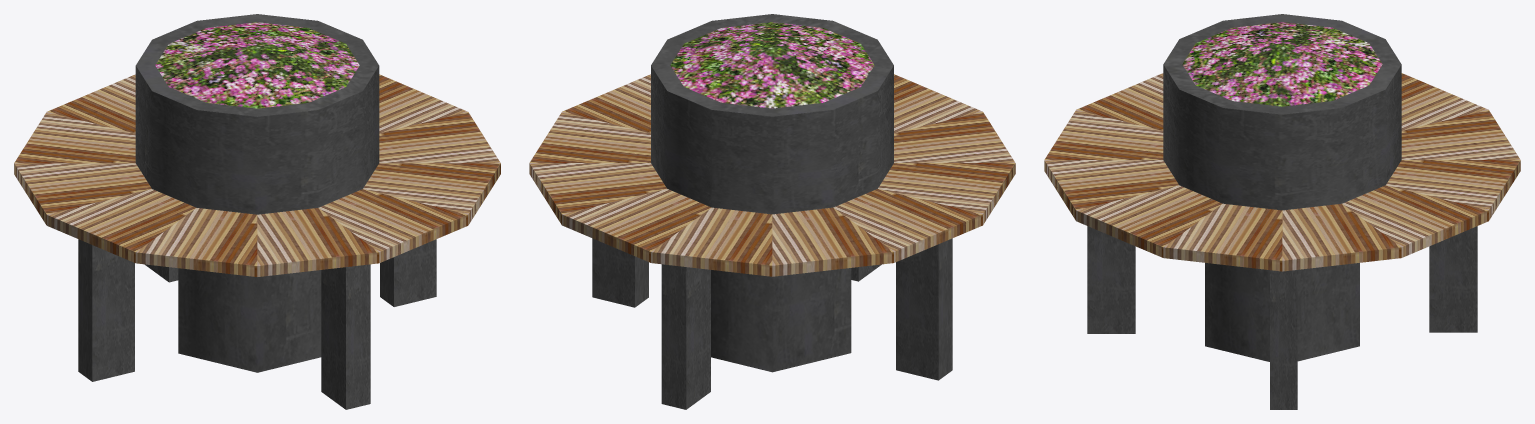
The model's file is SM_StreetBench_v02.FBX.
3 renders of one model, left to right at view 1: azimuth 30°, elevation 25°; view 2: azimuth 150°, elevation 25°; view 3: azimuth 270°, elevation 25°, orthographic. The views are drawn at different scales.
Parts seen in each view (by area): view 1: StreetBench_v02; view 2: StreetBench_v02; view 3: StreetBench_v02.
Part boxes in pixels (x1,y1,x2,y2): StreetBench_v02: [14, 14, 500, 409]; StreetBench_v02: [529, 14, 1015, 409]; StreetBench_v02: [1044, 14, 1520, 409].
Bounding box in the file's own units: 1.6 × 1.04 × 1.6.
